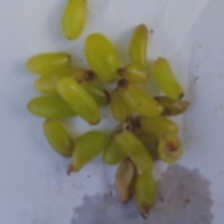grapes: (22, 48, 185, 205)
